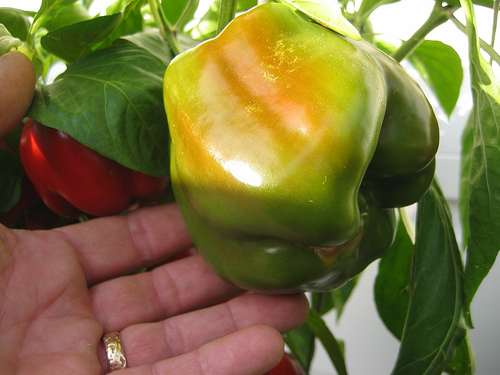capsicum: (162, 0, 442, 297)
